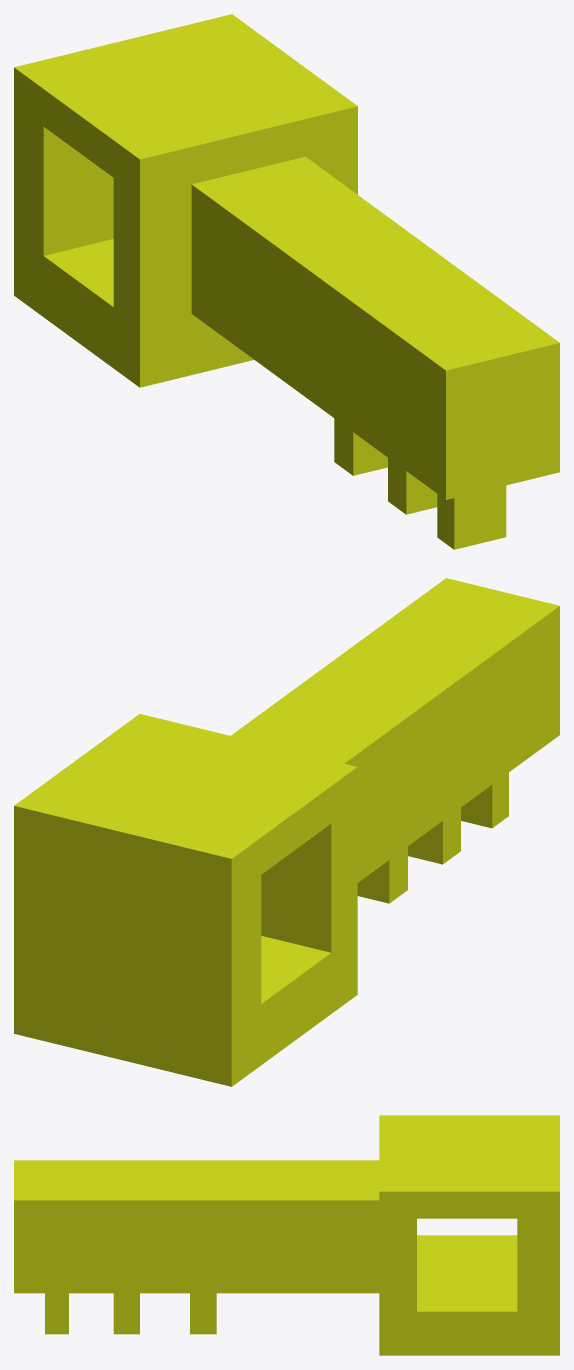
The model's file is key.fbx.
The picture shows the model from 3 angles, top to bottom: view 1: azimuth 30°, elevation 25°; view 2: azimuth 150°, elevation 25°; view 3: azimuth 270°, elevation 25°; orthographic projection. The views are drawn at different scales.
Visible parts, largest first — view 1: Cube; view 2: Cube; view 3: Cube.
Part boxes in pixels (<box>): Cube: <box>14,14,559,549</box>; Cube: <box>14,578,559,1086</box>; Cube: <box>14,1115,559,1355</box>.
Size of the model in its own units: 200 by 210 by 604.
